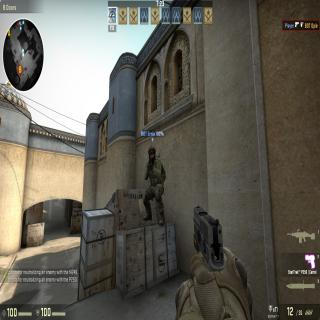CT-Body: (142, 144, 167, 226)
CT-Head: (147, 143, 157, 163)
